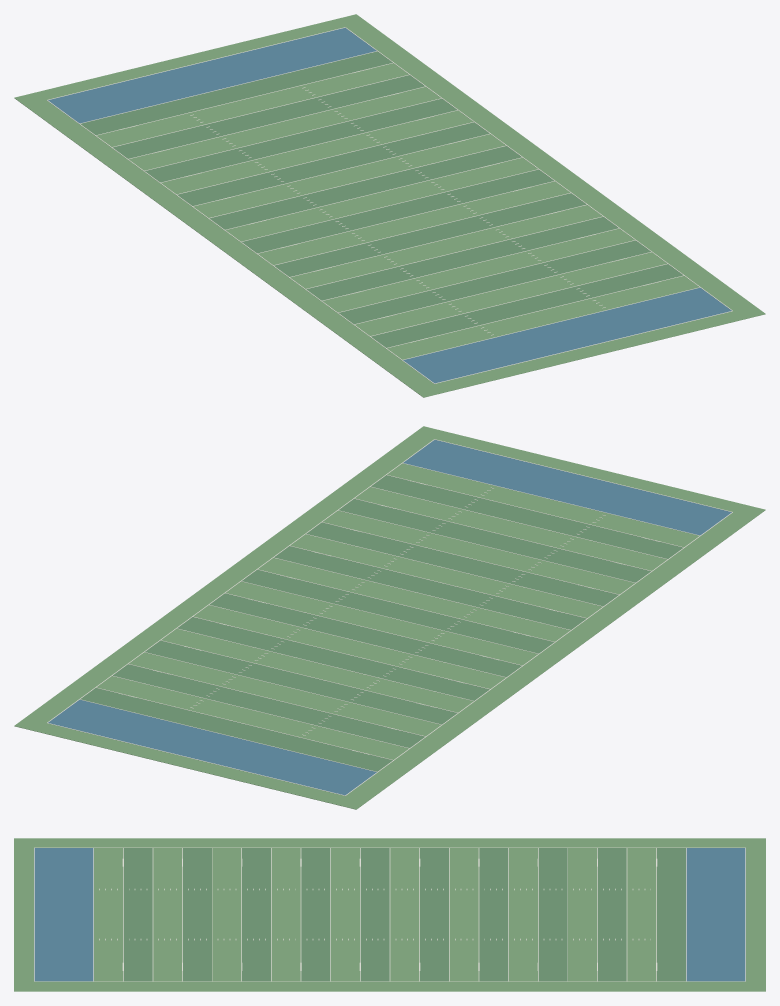
Rendered from american-football-stadium-kit-gridiron-field-35a545a1__22318.glb.
The picture shows the model from 3 angles, top to bottom: view 1: azimuth 30°, elevation 25°; view 2: azimuth 150°, elevation 25°; view 3: azimuth 270°, elevation 25°; orthographic projection. The views are drawn at different scales.
Parts seen in each view (by area): view 1: gridiron-field; view 2: gridiron-field; view 3: gridiron-field.
Part boxes in pixels (x1,y1,x2,y2): gridiron-field: [14, 14, 765, 397]; gridiron-field: [14, 426, 765, 809]; gridiron-field: [14, 838, 765, 991].
Size of the model in its own units: 55.99 by 0.0938 by 116.
